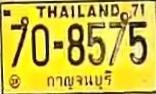0: (31, 24, 49, 66)
5: (86, 21, 106, 65), (128, 20, 146, 64)
7: (10, 23, 29, 67), (108, 20, 126, 66)
8: (67, 22, 84, 65)
KRI: (43, 69, 116, 93)
